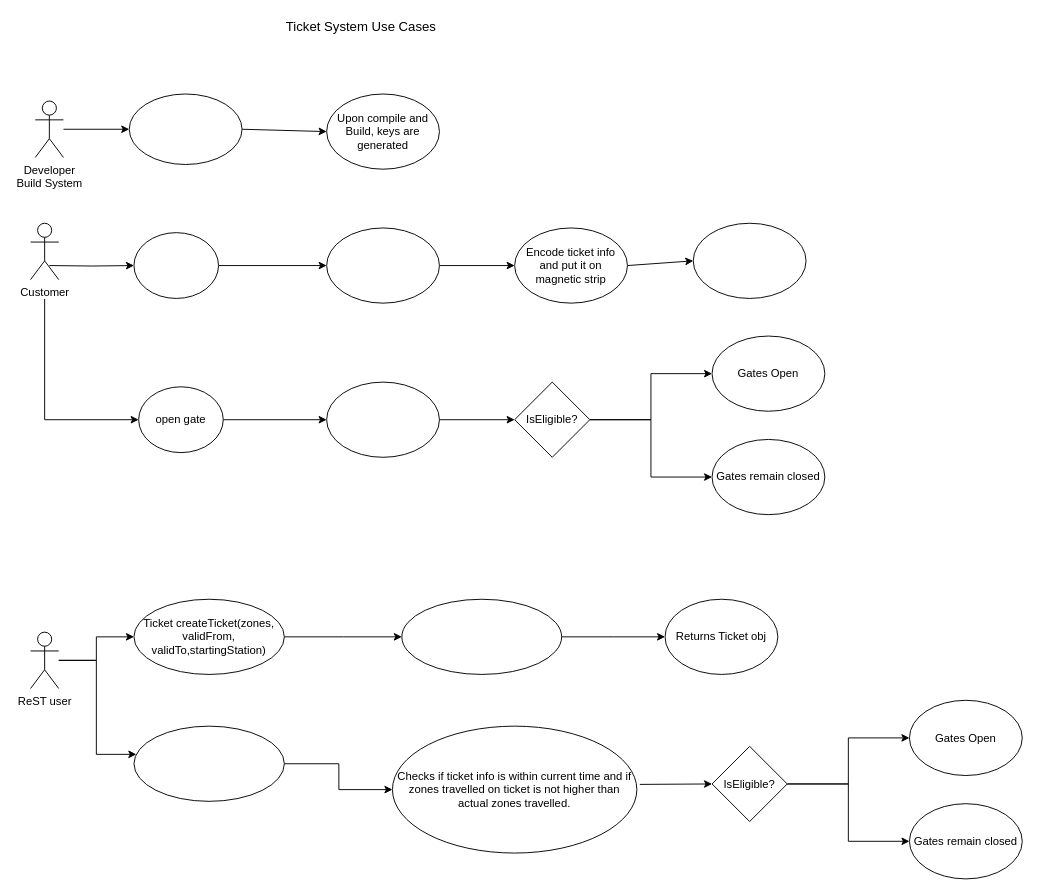
The diagram is 1039 pixels wide and 895 high, and some of its shapes have lost their labels. Each missing label, with the centre of its shape:
"Asymmetric Cryptography encrypts ticket info using private key" belongs at (481,636).
"checks encoded info is eligible to open gates" belongs at (382,419).
"create ticket" belongs at (176,265).
"generate public and private keys" belongs at (185,128).
"openGate(Ticket ticket, time, zonesTravelled)" belongs at (208,763).
"Print ticket" belongs at (749,260).
"User enters zones, valid from, valid to and where they are" belongs at (382,265).
